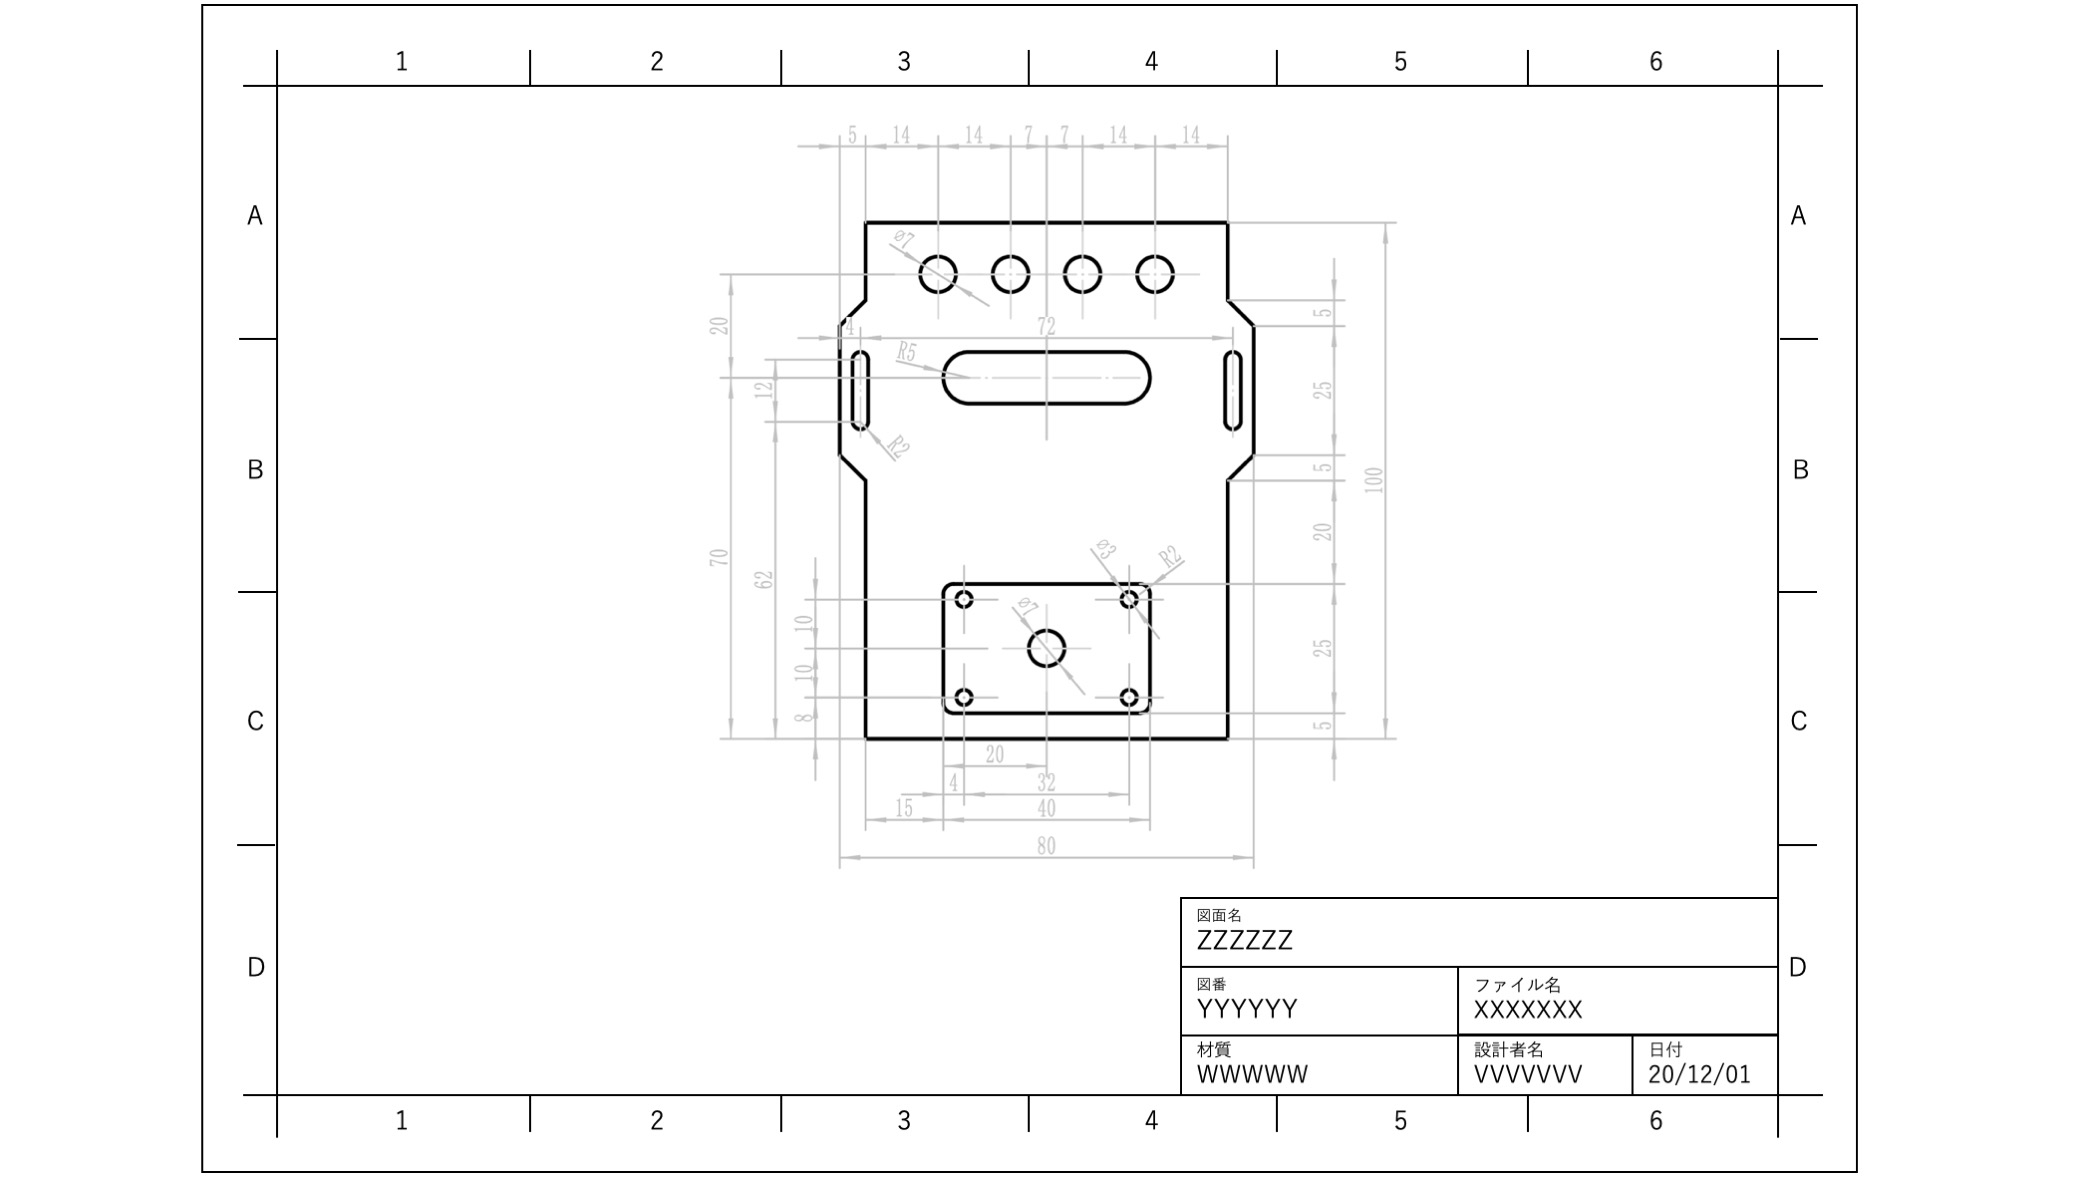circle: (904, 247, 972, 298), (987, 247, 1034, 314), (1126, 247, 1183, 301), (1018, 623, 1077, 669), (1060, 248, 1108, 301), (935, 679, 989, 707), (1118, 672, 1141, 715), (946, 585, 976, 613), (1115, 590, 1150, 607)
round_rectangle: (935, 337, 1162, 420), (824, 335, 880, 435), (1214, 337, 1266, 443)
